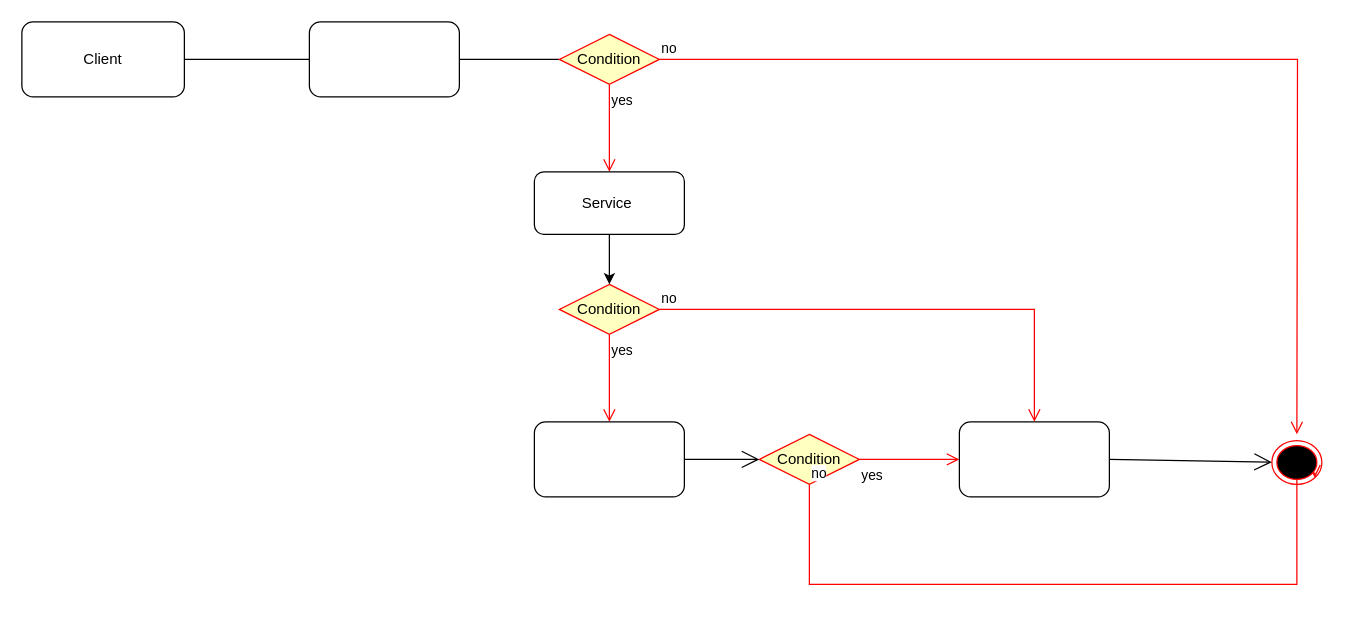
This 1350x619 diagram has some shape labels left out. The shapes that lost their labels are listed below. From the top down, each one's box as (x1, y1, x2, y2) in pixels, then its label:
(308, 21, 459, 97): Recherche
(533, 421, 684, 497): Paiement
(958, 421, 1109, 497): QR CODE
